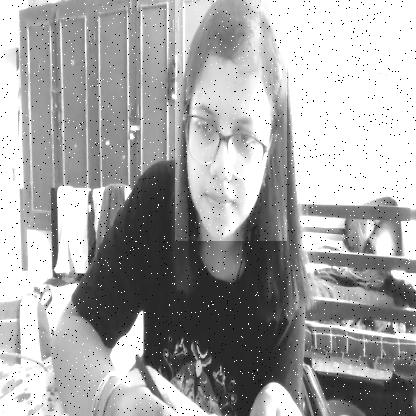Normal: (176, 0, 288, 241)
